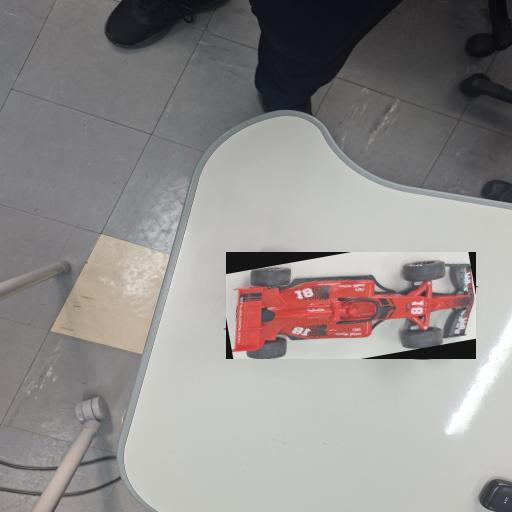carro: (226, 253, 475, 359)
